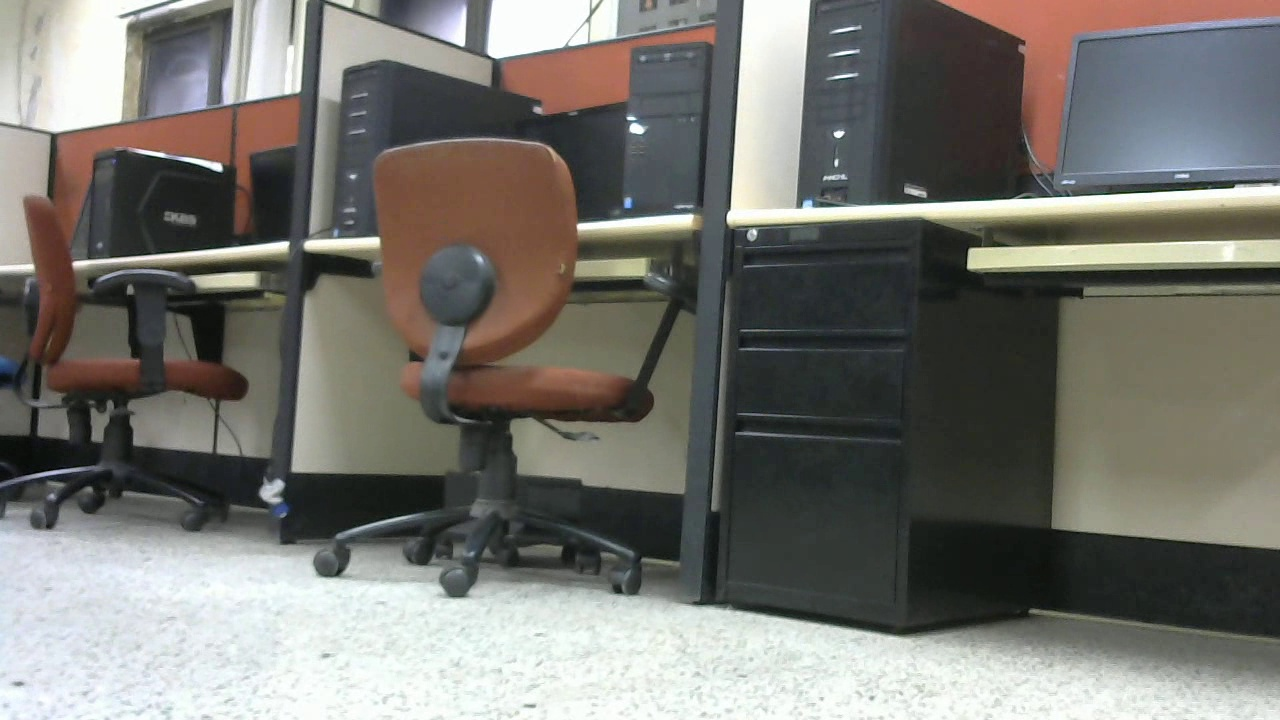chair: (302, 134, 700, 597), (1, 205, 249, 547)
